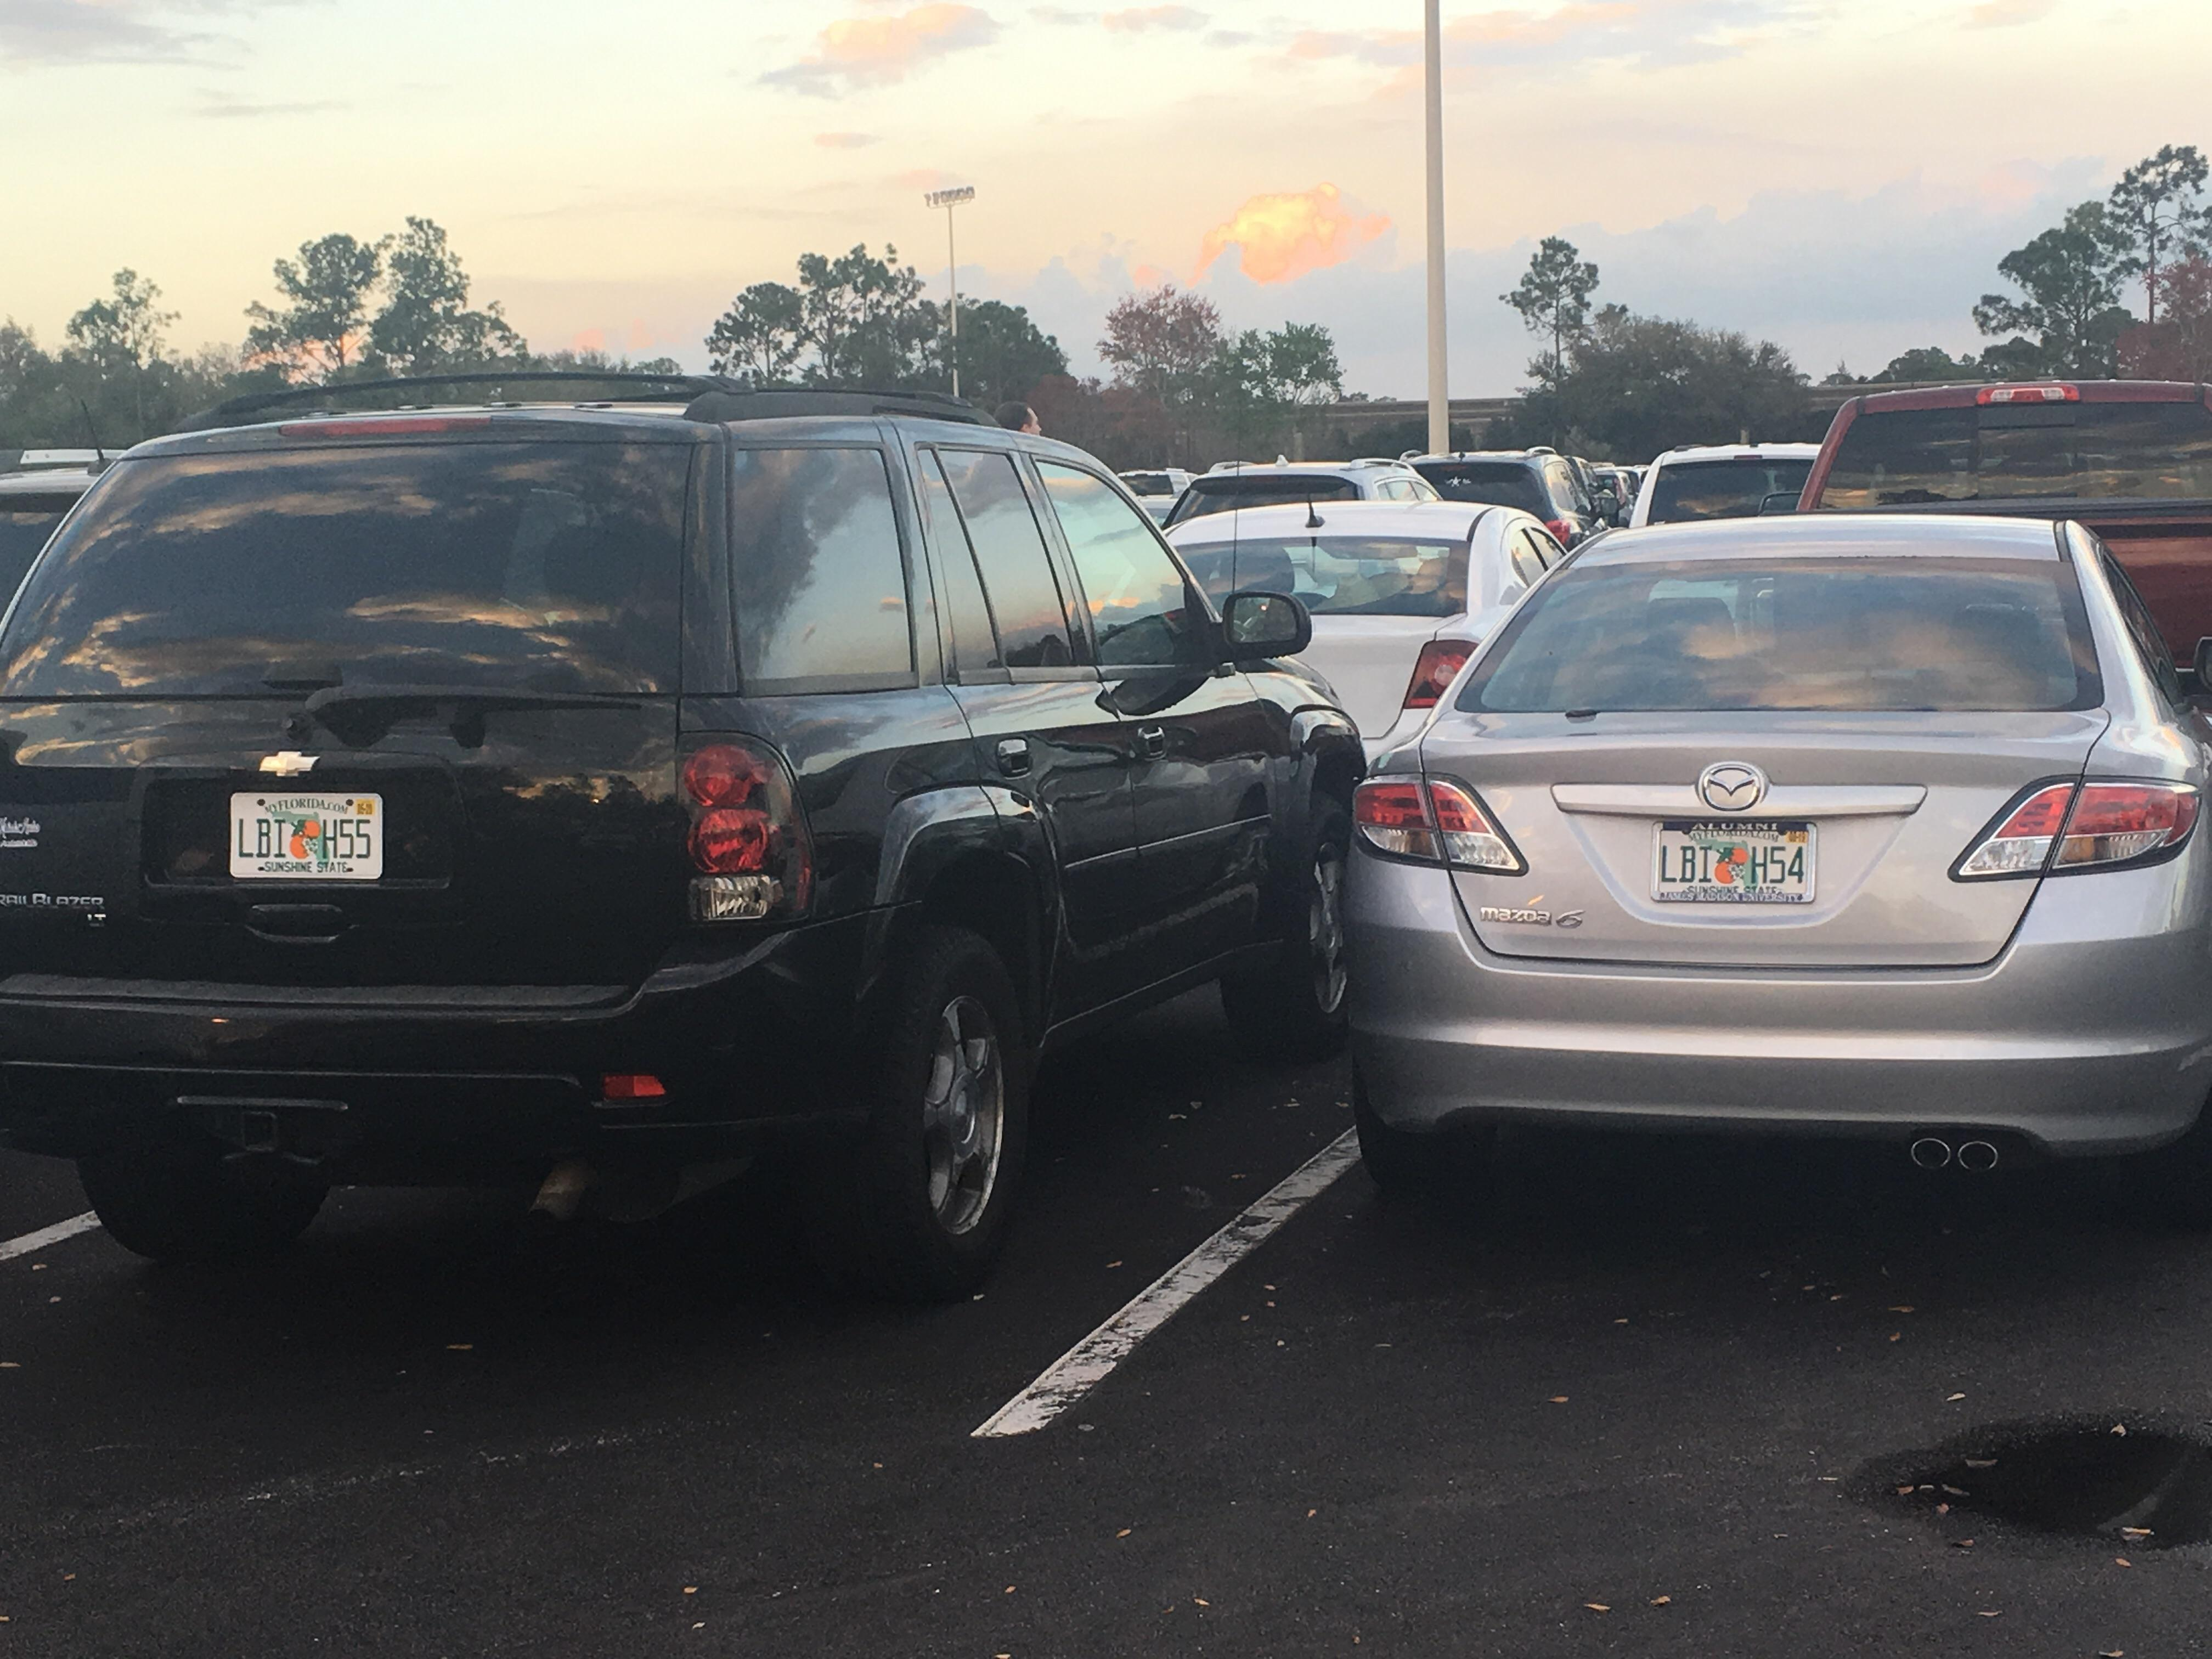Liscence Plate: (1635, 817, 1837, 912), (212, 783, 393, 884)
